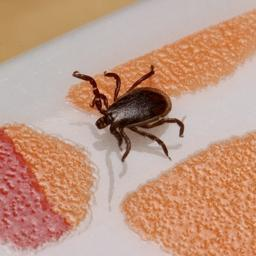Ixodes scapularis: (73, 65, 184, 161)
